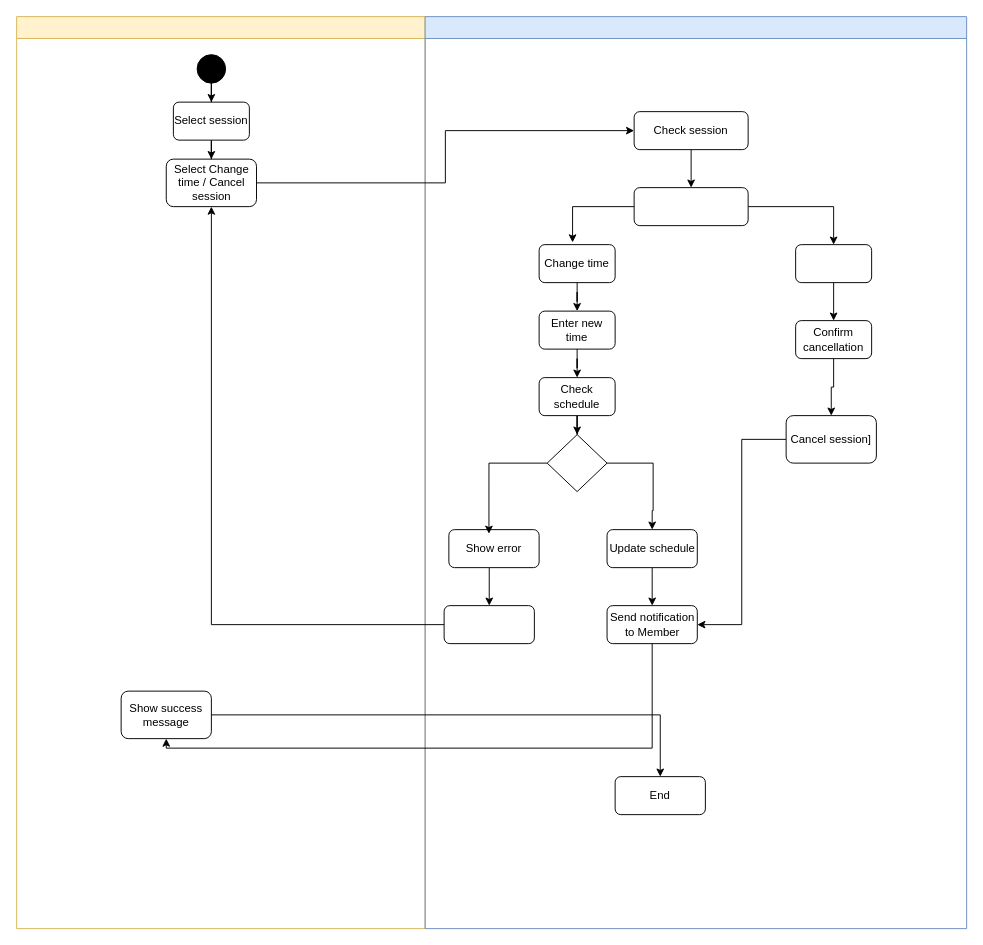
The diagram is 983 pixels wide and 945 high, and some of its shapes have lost their labels. The box of each missing label's shape, as (x1, y1, x2, y2) in pixels:
Cancel: (795, 244, 872, 283)
Change time or Cancel?: (633, 187, 748, 226)
COACH: (16, 16, 425, 929)
Conflict found?: (546, 434, 607, 492)
Re-enter: (443, 605, 534, 644)
SYSTEM: (424, 16, 967, 929)
